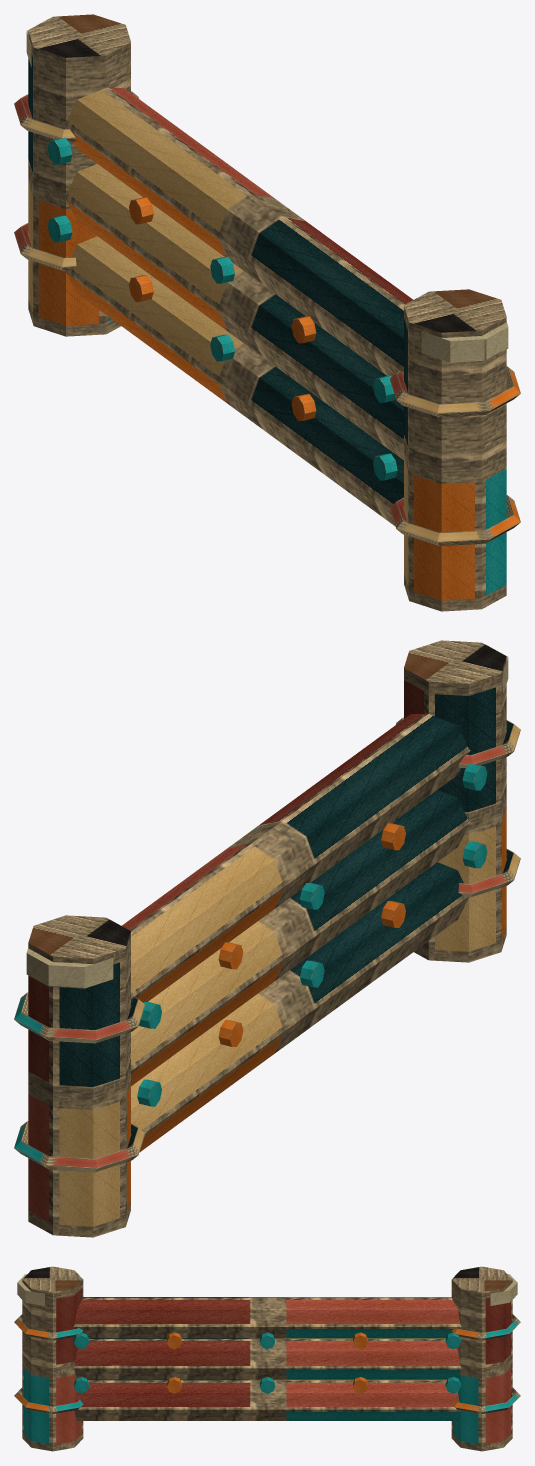
The model's file is palisade.e6.glb.
3 views of the same model, one above another, from view 1: azimuth 30°, elevation 25°; view 2: azimuth 150°, elevation 25°; view 3: azimuth 270°, elevation 25° (orthographic). The views are drawn at different scales.
Parts seen in each view (by area): view 1: GlowFenceE6; view 2: GlowFenceE6; view 3: GlowFenceE6.
Part boxes in pixels (<box>): GlowFenceE6: <box>14,14,520,611</box>; GlowFenceE6: <box>14,640,520,1237</box>; GlowFenceE6: <box>14,1266,520,1451</box>.
Size of the model in its own units: 0.46 by 1.04 by 3.
1 material, 1 textured.
